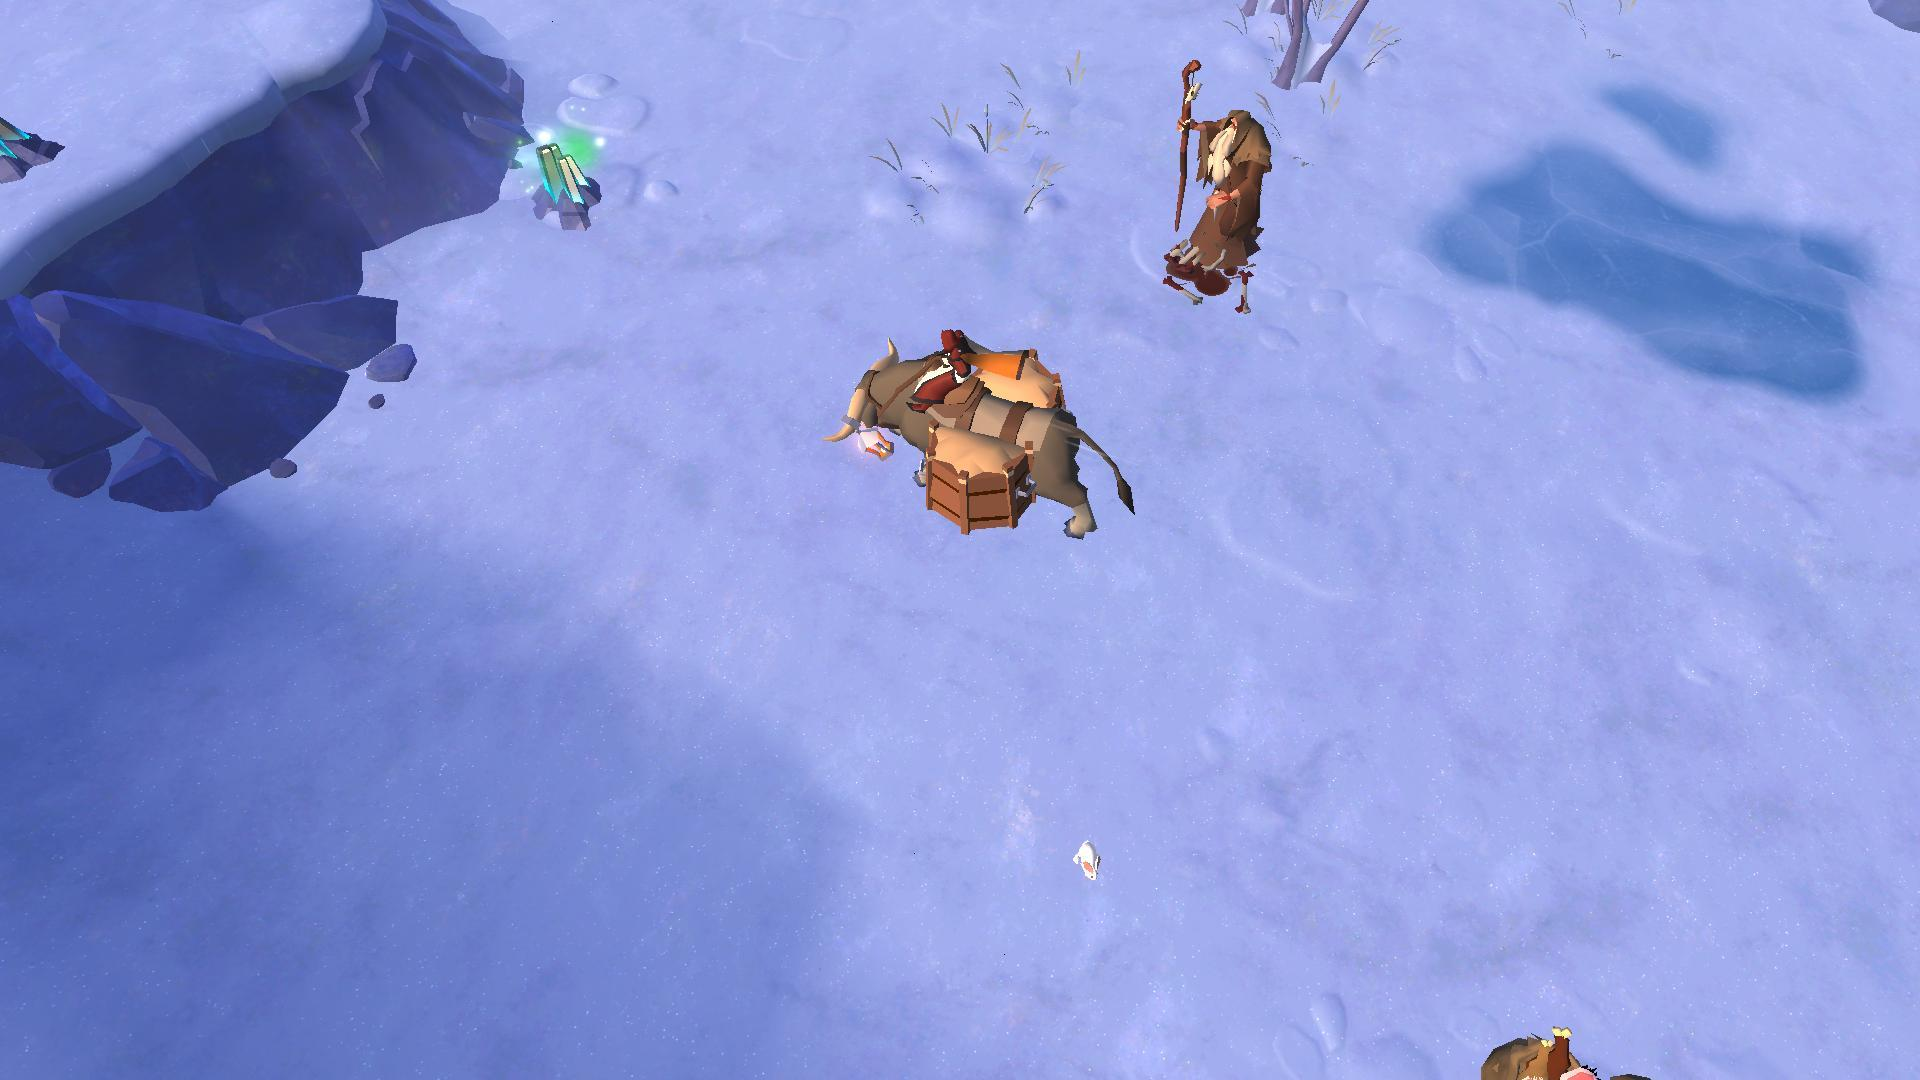enemy_factionKeeper: (1162, 65, 1274, 287)
ore_t4: (529, 133, 592, 207)
